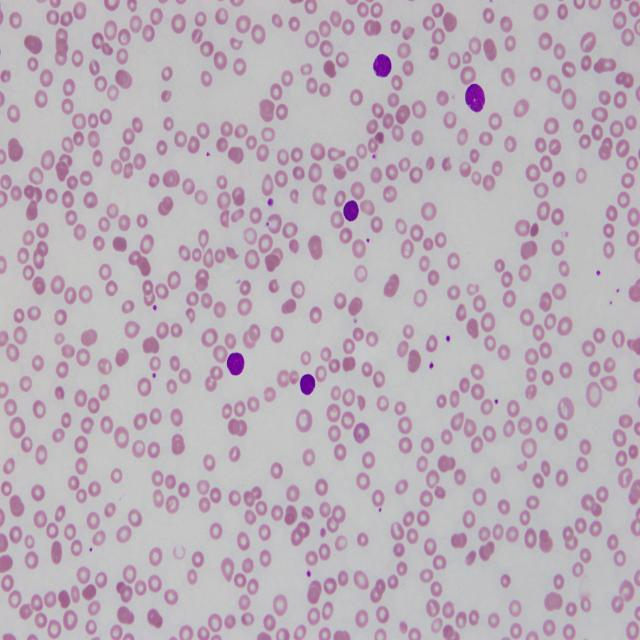cell: (465, 83, 485, 112), (226, 352, 245, 375), (372, 55, 391, 77), (344, 200, 359, 222), (300, 375, 315, 395)
